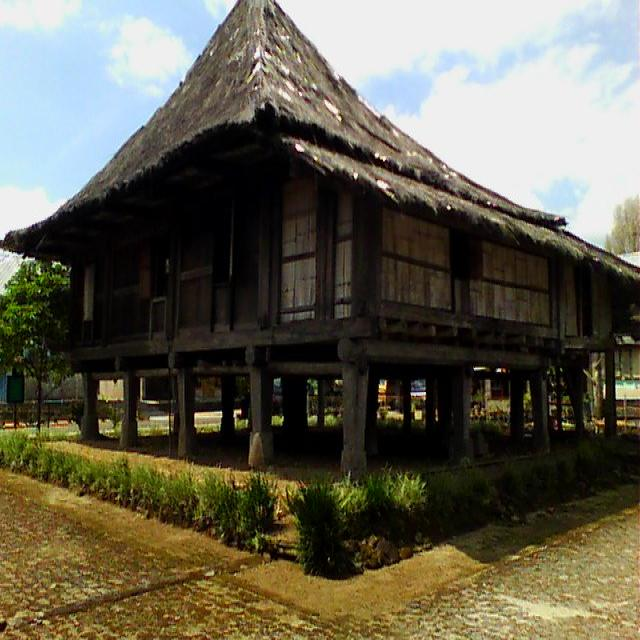Atap: (0, 0, 639, 342)
